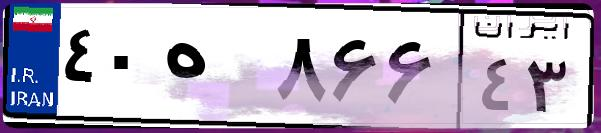0: (110, 28, 158, 98)
3: (525, 38, 570, 115)
4: (57, 26, 110, 100), (475, 38, 525, 113)
6: (385, 28, 445, 110), (330, 28, 385, 110)
8: (270, 28, 330, 110)
ه: (158, 20, 270, 120)
